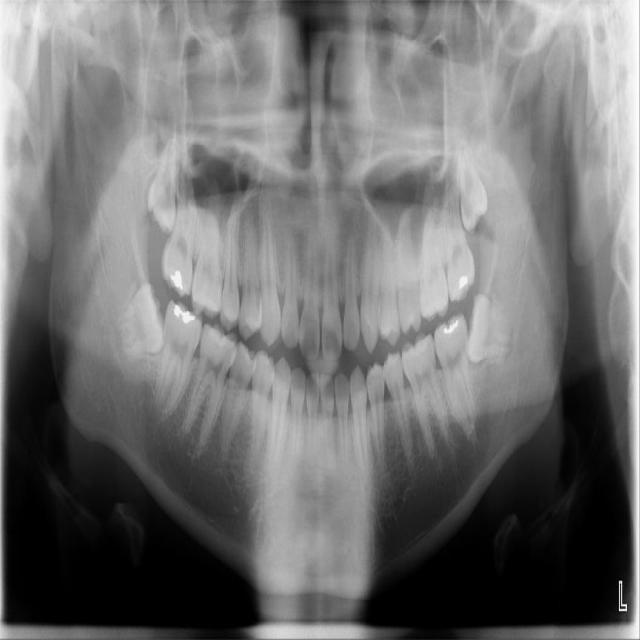Filling: (169, 303, 198, 326), (442, 316, 461, 336), (456, 271, 471, 294), (169, 270, 184, 292)
